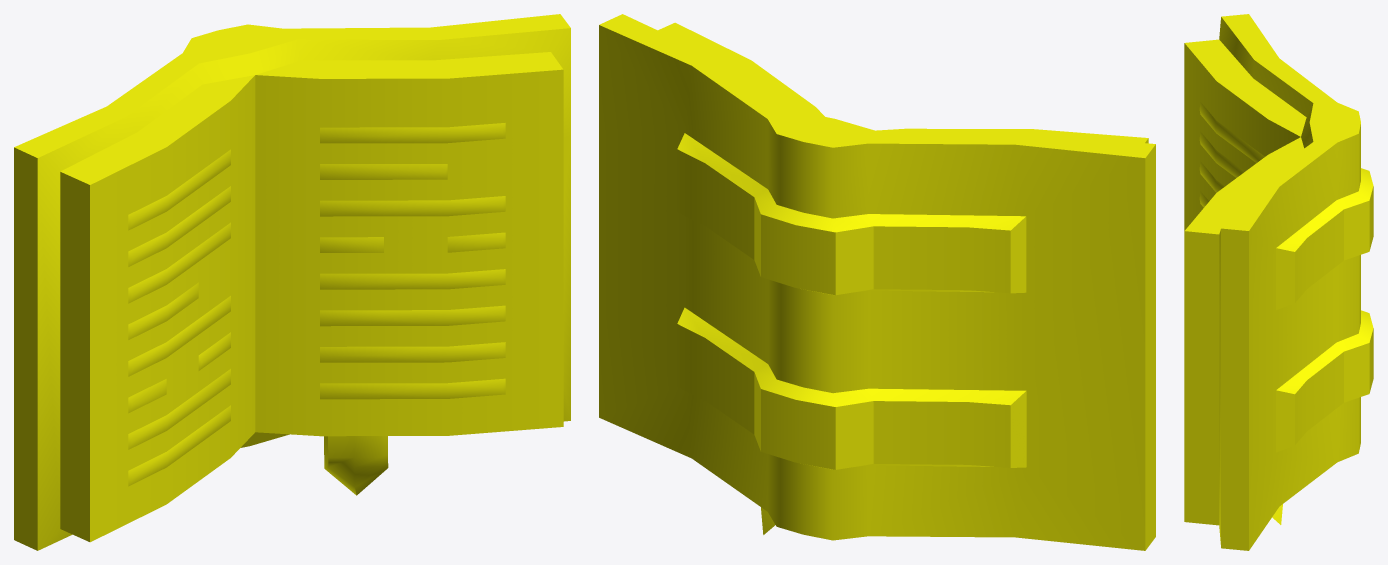
The model's file is kaykit-journal-open.glb.
The picture shows the model from 3 angles, left to right: view 1: azimuth 30°, elevation 25°; view 2: azimuth 150°, elevation 25°; view 3: azimuth 270°, elevation 25°; orthographic projection. The views are drawn at different scales.
Parts seen in each view (by area): view 1: journal_open; view 2: journal_open; view 3: journal_open.
Part boxes in pixels (x1,y1,x2,y2): journal_open: (14, 14, 570, 550); journal_open: (599, 14, 1155, 550); journal_open: (1184, 14, 1373, 550).
Bounding box in the file's own units: 0.9386 × 0.7408 × 0.3454.
